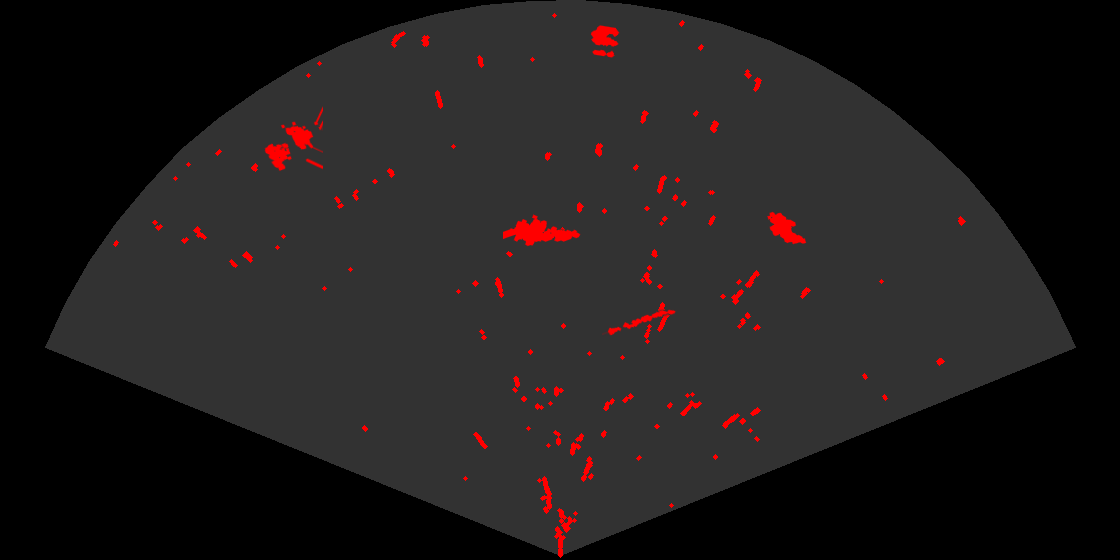AUV: (766, 210, 808, 246)
ball: (589, 24, 621, 59)
cage: (263, 105, 323, 173)
chain: (602, 308, 678, 337)
frogman: (503, 213, 582, 248)
